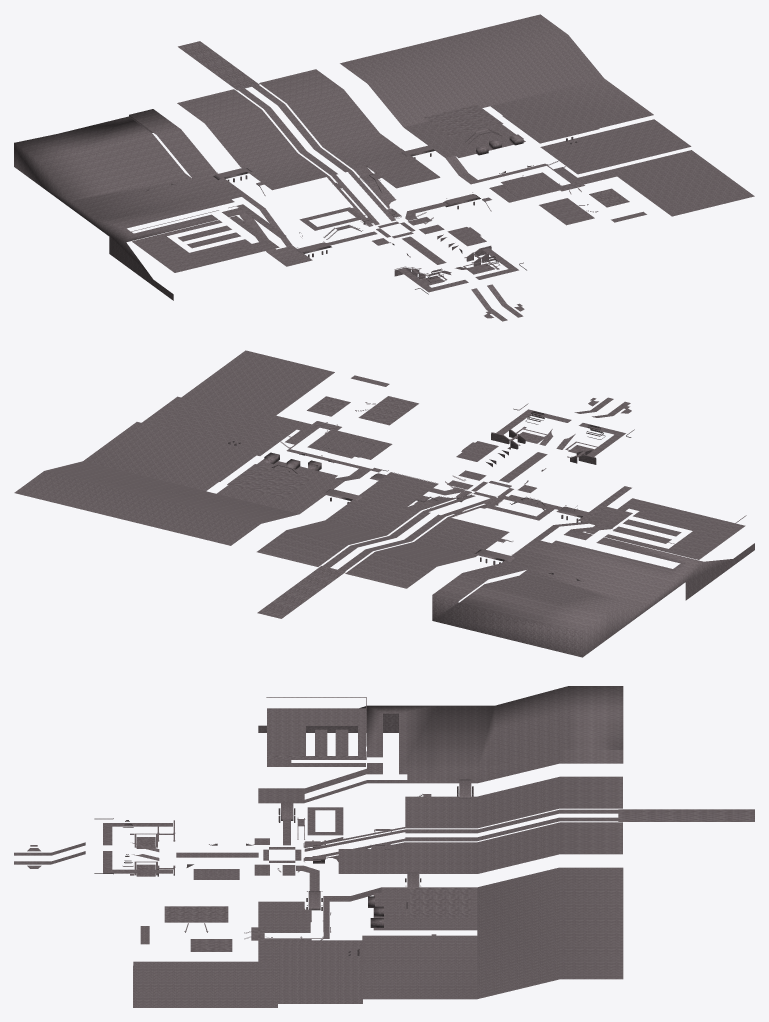
The model's file is luoyang_floor.obj.
3 renders of one model, top to bottom at view 1: azimuth 30°, elevation 25°; view 2: azimuth 150°, elevation 25°; view 3: azimuth 270°, elevation 25°, orthographic. The views are drawn at different scales.
Parts seen in each view (by area): view 1: z9_obj; view 2: z9_obj; view 3: z9_obj.
Part boxes in pixels (<box>): z9_obj: <box>14,14,754,321</box>; z9_obj: <box>14,350,754,657</box>; z9_obj: <box>14,686,754,1007</box>.
Size of the model in its own units: 414 by 31.04 by 442.
